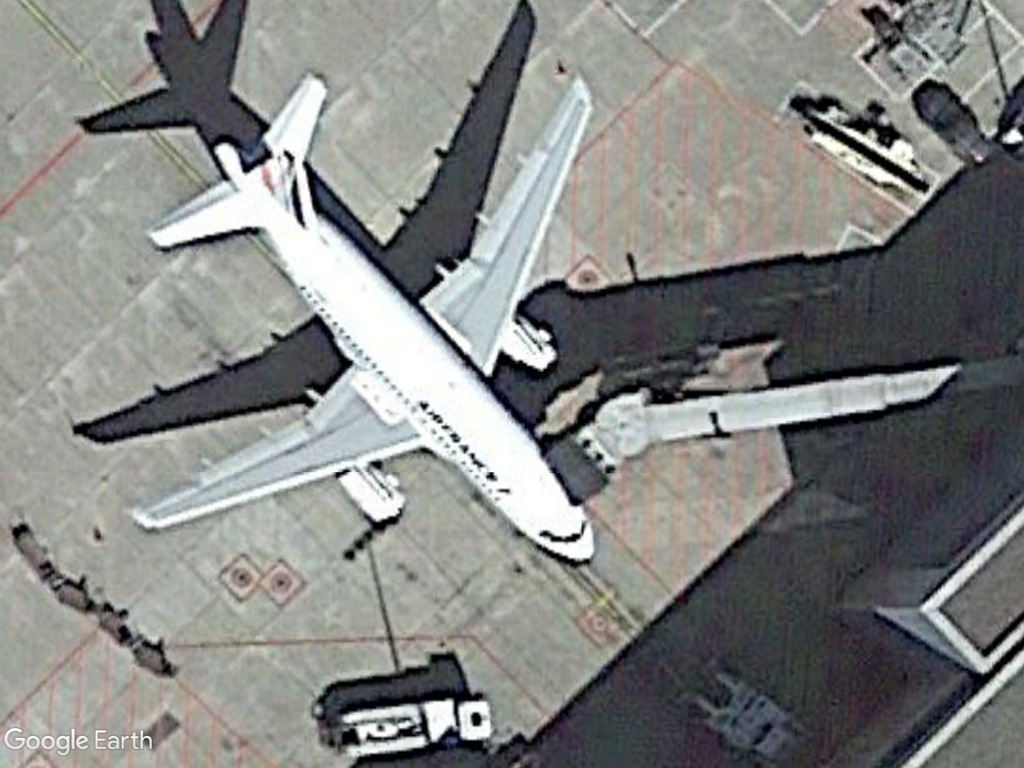airliner: (121, 67, 602, 569)
others: (327, 697, 496, 763)
